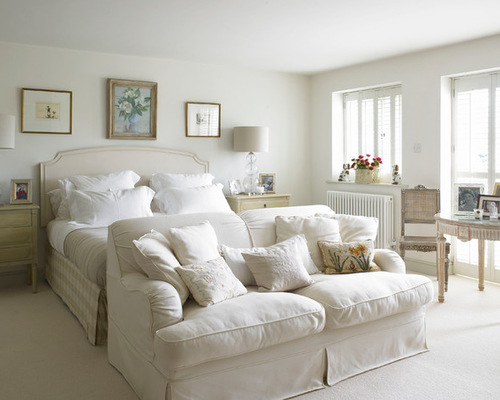chairs: (101, 205, 441, 400), (393, 180, 453, 309)
